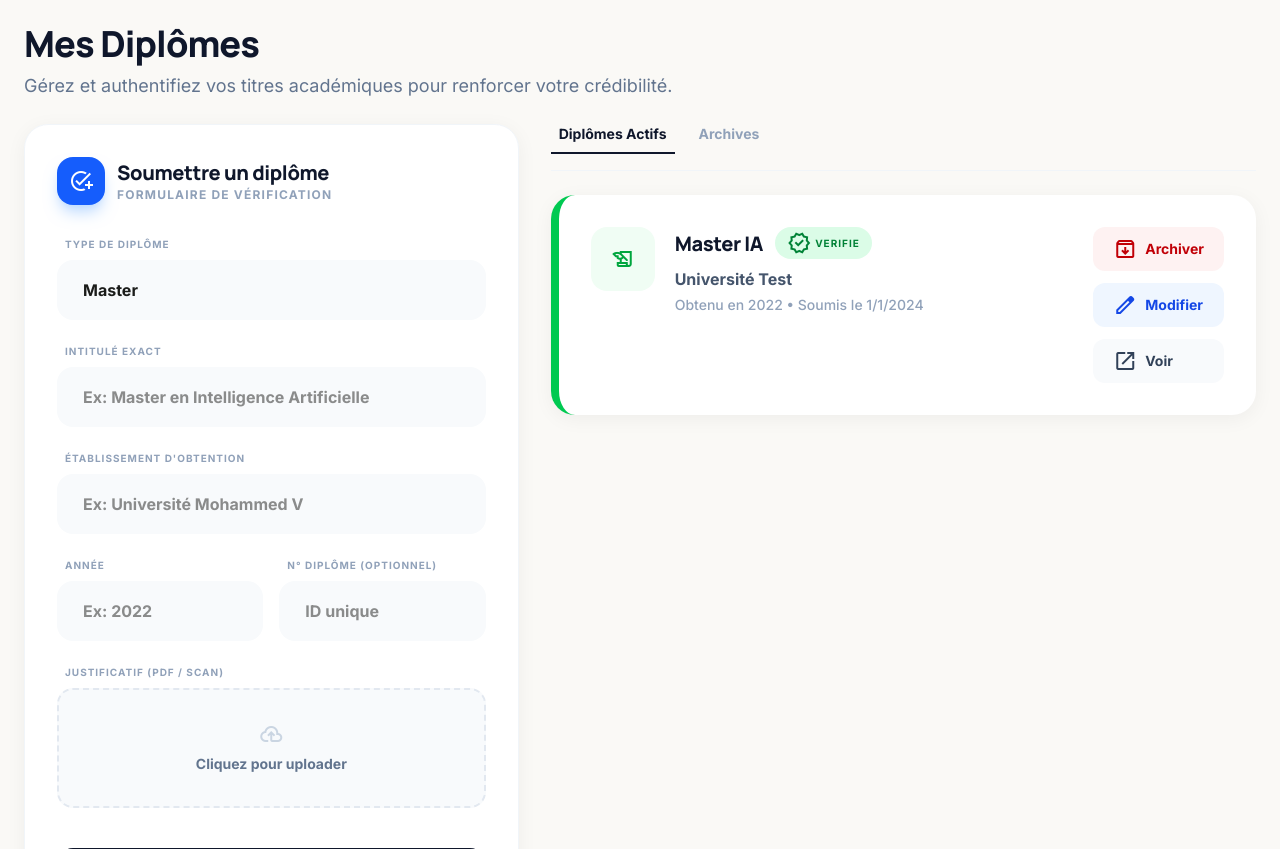
EnseignantDiplomes › passe en mode modification
The image size is (1280, 849).
expect the heading "Master IA" is shown: met, box [675,230,763,256]
Click the button "Modifier".
click(1159, 305)  # box [1093,283,1224,327]
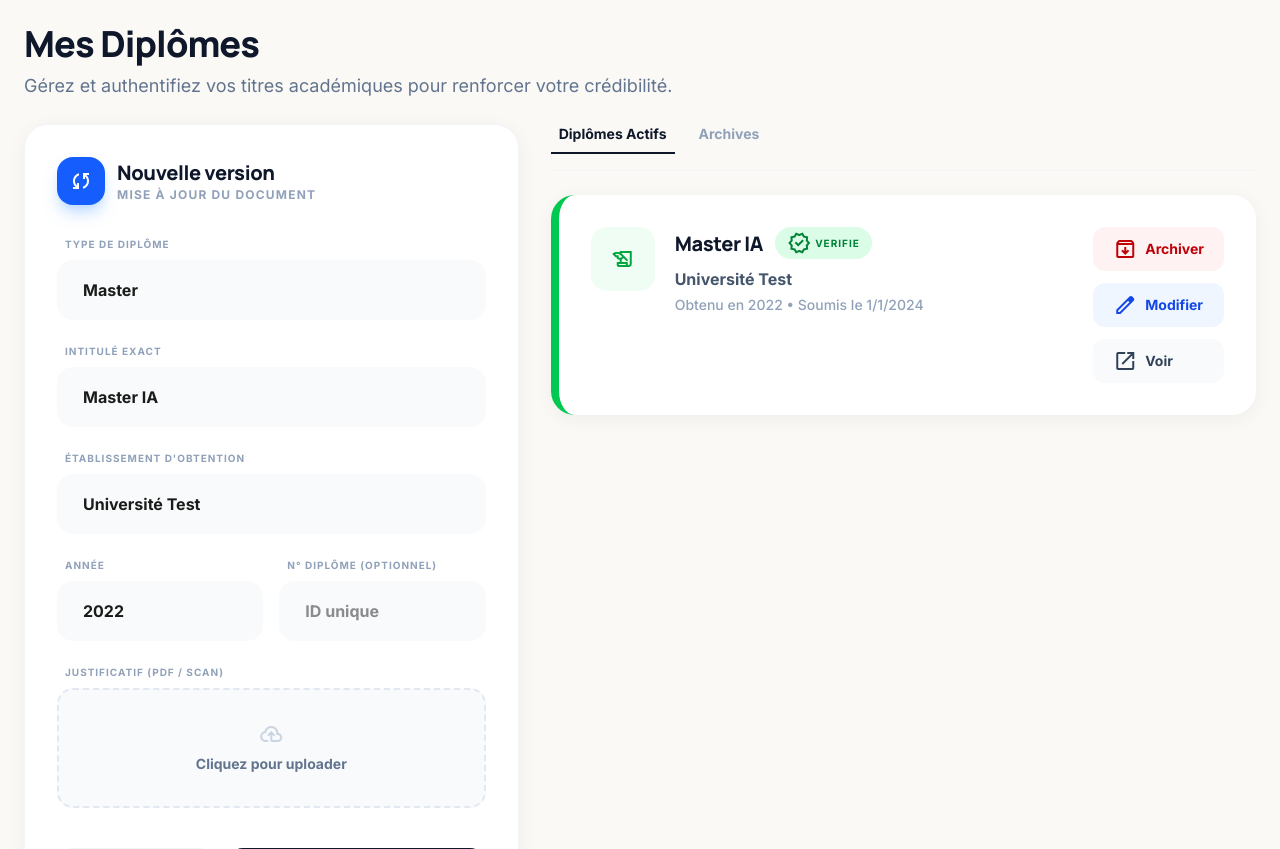
expect the heading "Nouvelle version" is shown: met, box [117,159,275,186]
